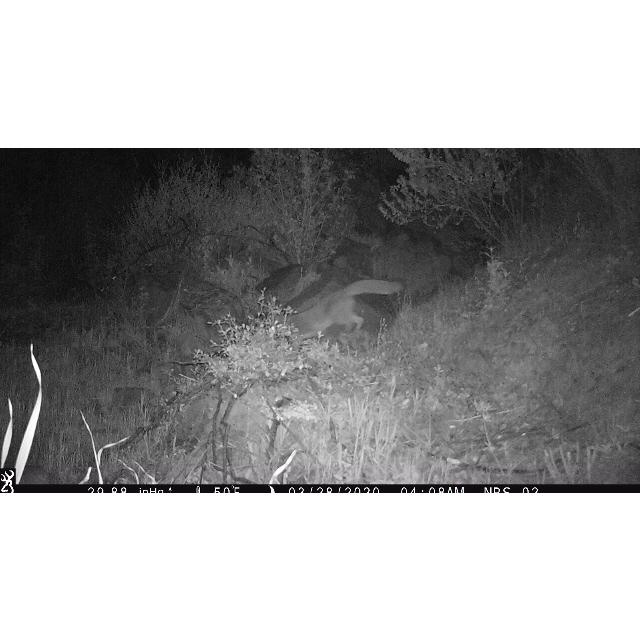animals: (266, 277, 404, 351)
